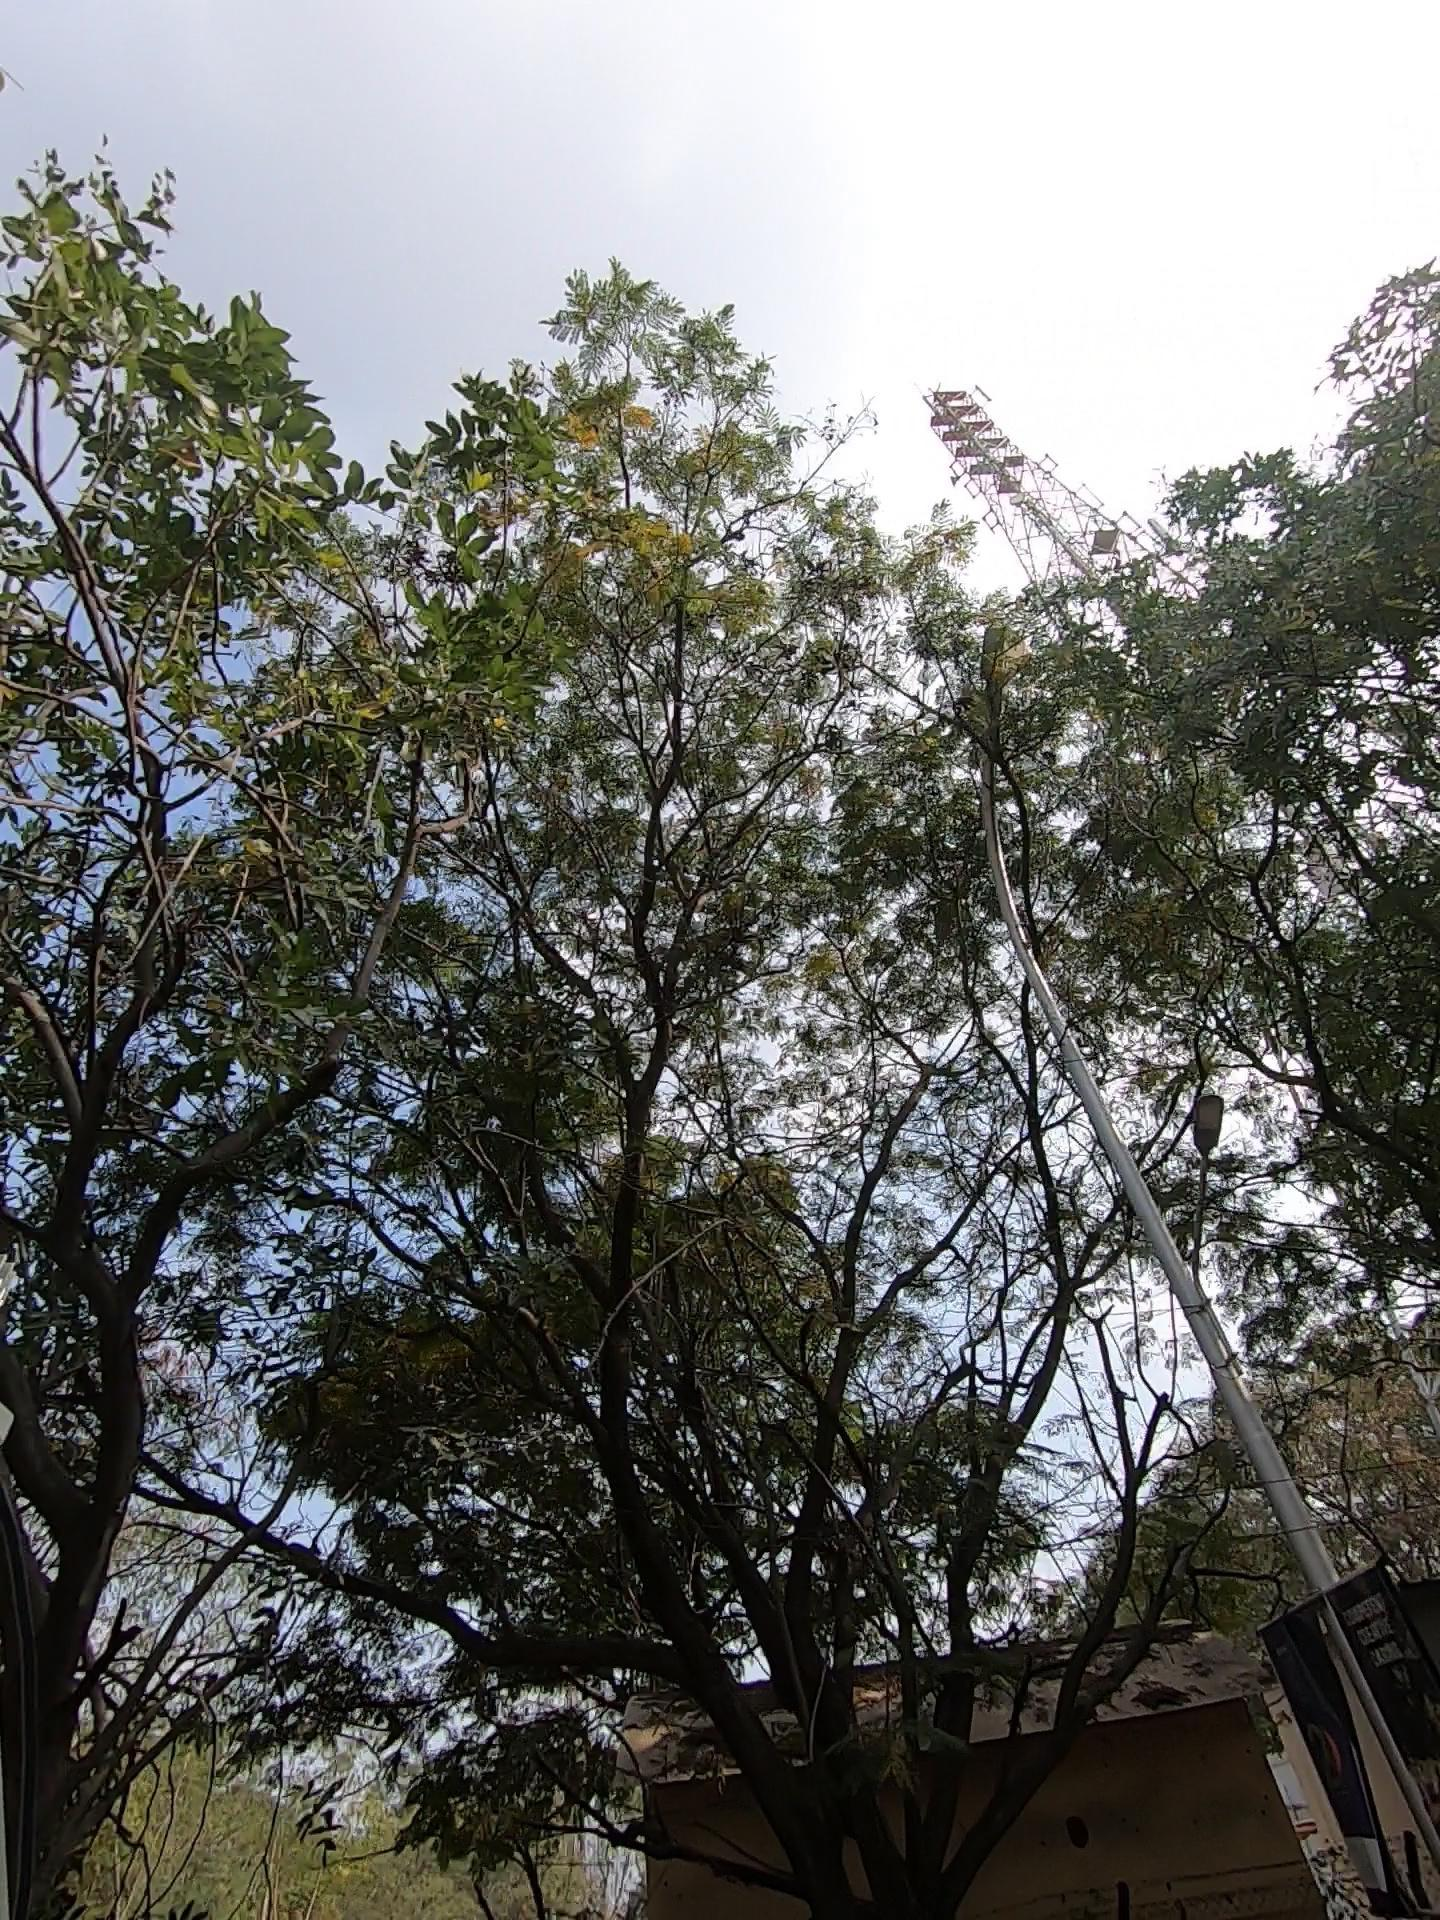off: (911, 553, 1139, 768)
